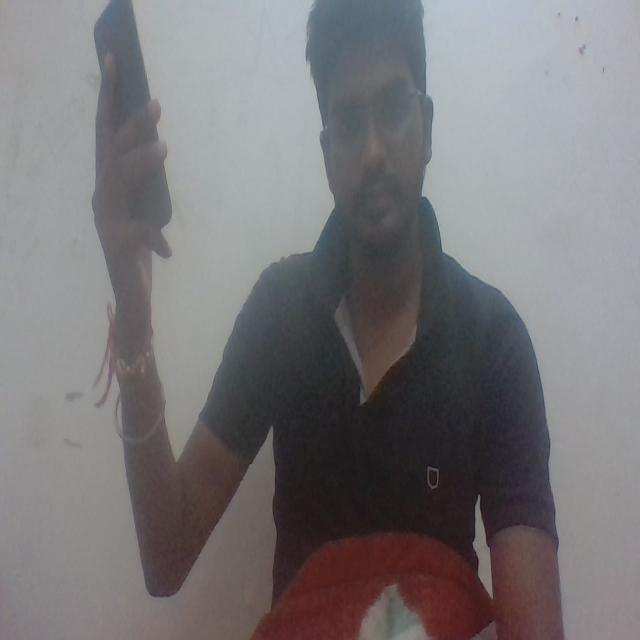Phone: (88, 0, 175, 238)
